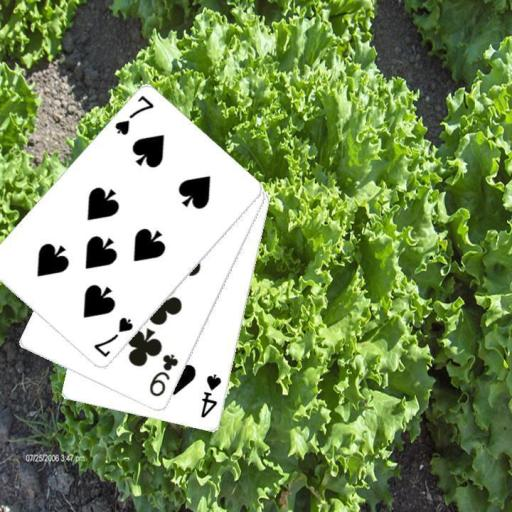card-corner: (90, 314, 135, 360), (111, 92, 156, 138), (146, 351, 180, 399), (198, 371, 223, 420)
